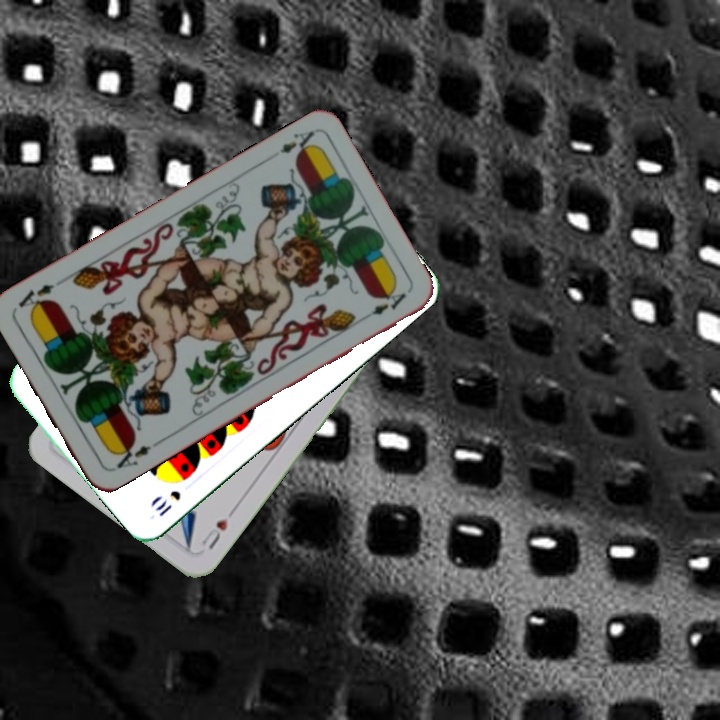EA: (110, 437, 153, 472), (275, 126, 320, 159)
HU: (197, 505, 238, 552)
S10: (151, 486, 184, 519)
